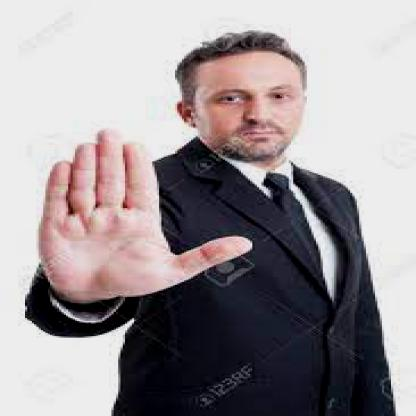Stop: (22, 127, 231, 309)
